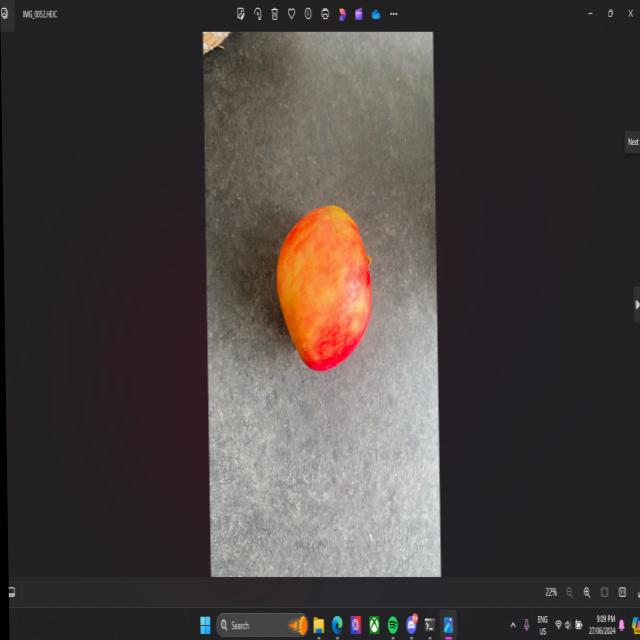Apple: (275, 205, 371, 371)
